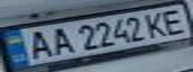2: (72, 21, 100, 52), (124, 14, 148, 43), (93, 18, 115, 48)
4: (112, 16, 133, 45)
A: (18, 28, 57, 61), (45, 25, 75, 56)
E: (157, 7, 193, 36)
K: (142, 9, 172, 38)
